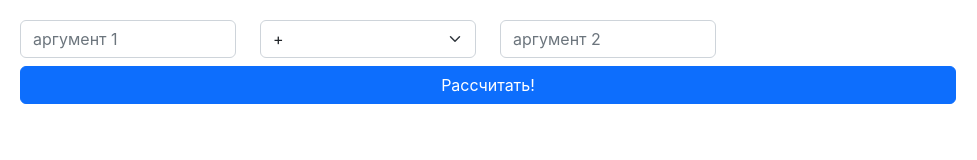
Scenario: App component › testing the multiplication of numbers
Select "*" in the list at (368, 39), box [260, 20, 476, 58]
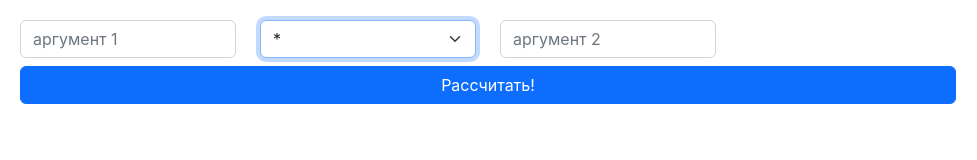
Type "10" into the field named "firstArg" at (128, 39), box [20, 20, 236, 58]
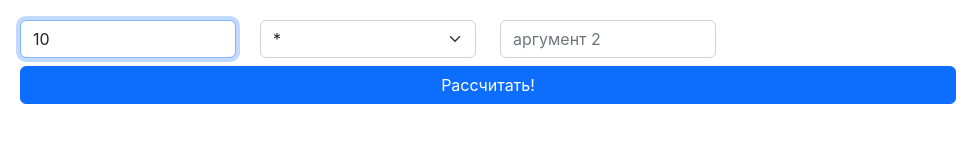
Type "10" into the field named "secondArg" at (608, 39), box [500, 20, 716, 58]
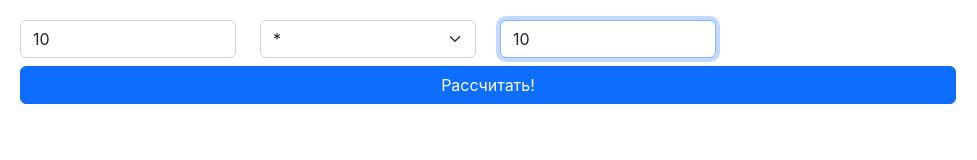
Click the submit button at (488, 85), box [20, 66, 956, 104]
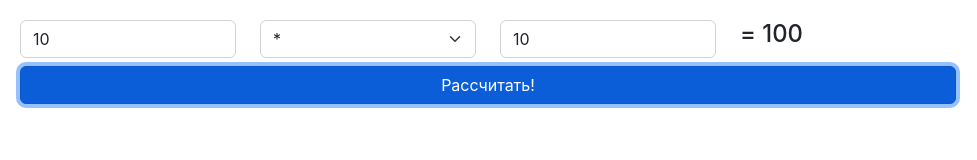
Result: the heading "= 100" is shown at [740, 19, 803, 48]
